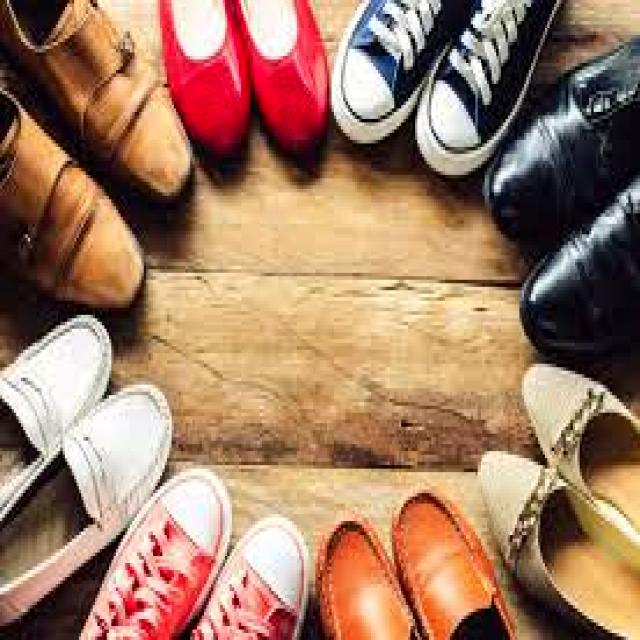foot-wear: (0, 385, 171, 626), (0, 0, 192, 199), (485, 39, 639, 244), (0, 91, 143, 311), (481, 455, 639, 639), (82, 469, 231, 639), (416, 0, 561, 174), (0, 315, 111, 524), (522, 179, 639, 356), (332, 0, 473, 143), (394, 478, 514, 640), (193, 518, 310, 639), (160, 0, 250, 157), (237, 0, 329, 153)
